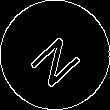N_NE: (23, 23, 87, 87)
